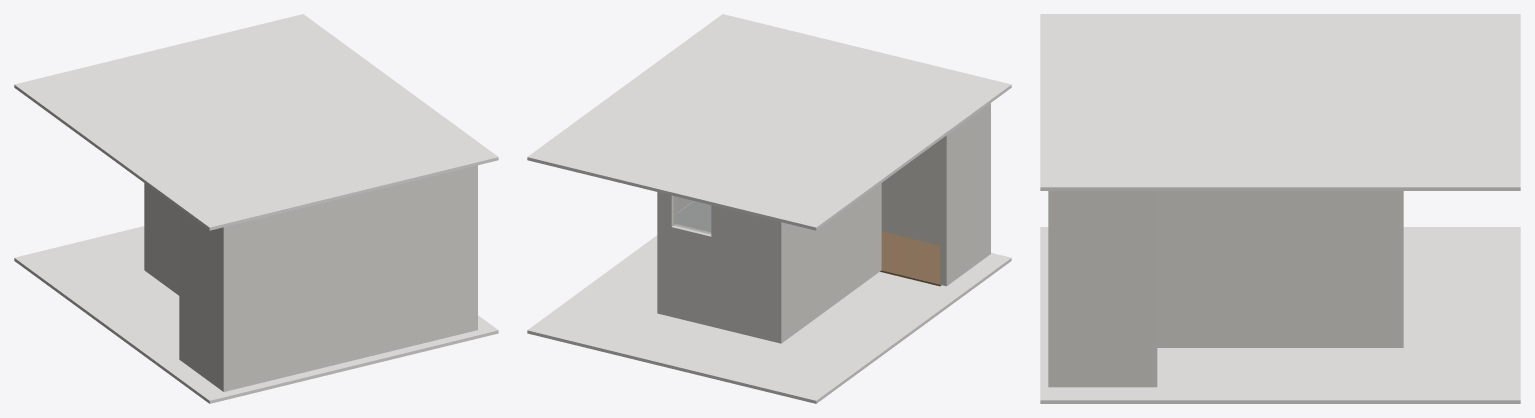
3 views of the same model, side by side, from view 1: azimuth 30°, elevation 25°; view 2: azimuth 150°, elevation 25°; view 3: azimuth 270°, elevation 25° (orthographic). The views are drawn at different scales.
Visible parts, largest first — view 1: baked; view 2: baked, window_glass_0; view 3: baked.
Boxes of the visible parts, left/top/right/bottom form: baked: left=14, top=14, right=498, bottom=403; baked: left=527, top=14, right=1011, bottom=403; window_glass_0: left=674, top=196, right=710, bottom=234; baked: left=1040, top=14, right=1520, bottom=403.
Size of what is drawn, in the model's own units: 4.44 by 2.59 by 5.21.
